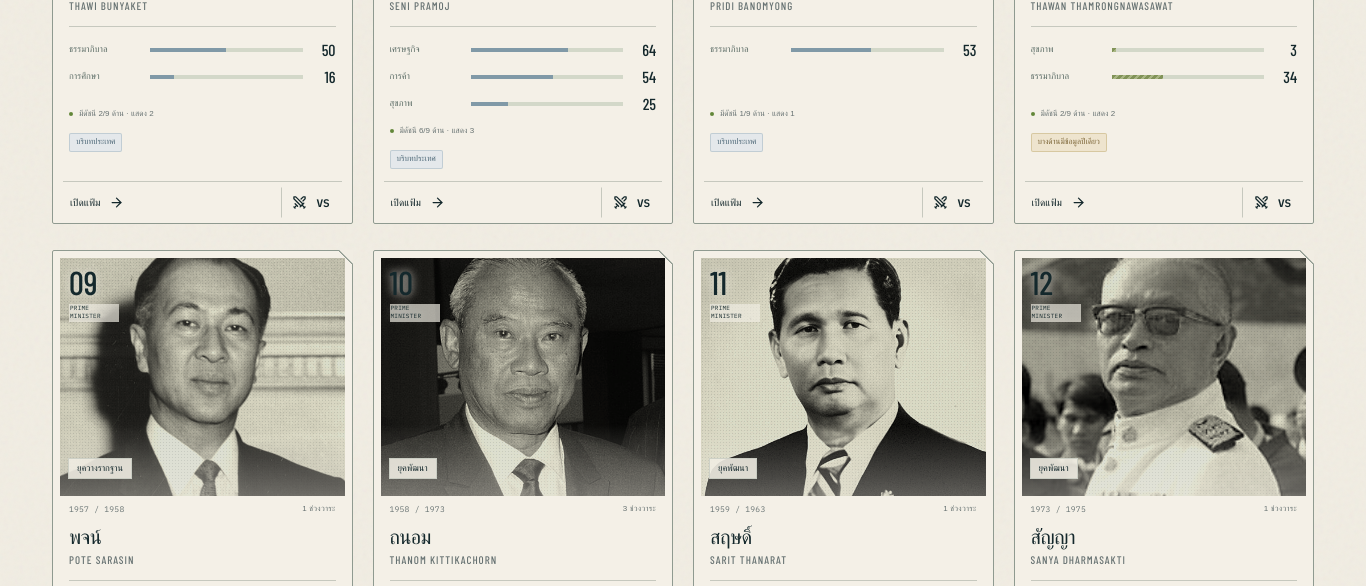
Test: roster to comparison flow › labels annual context for a short tenure and shows which exact sources VS uses
The width and height of the screenshot is (1366, 586).
(page scrolled)
Click the button "VS" below "Thawi Bunyaket": (311, 203) [280, 187, 342, 218]
(page scrolled)
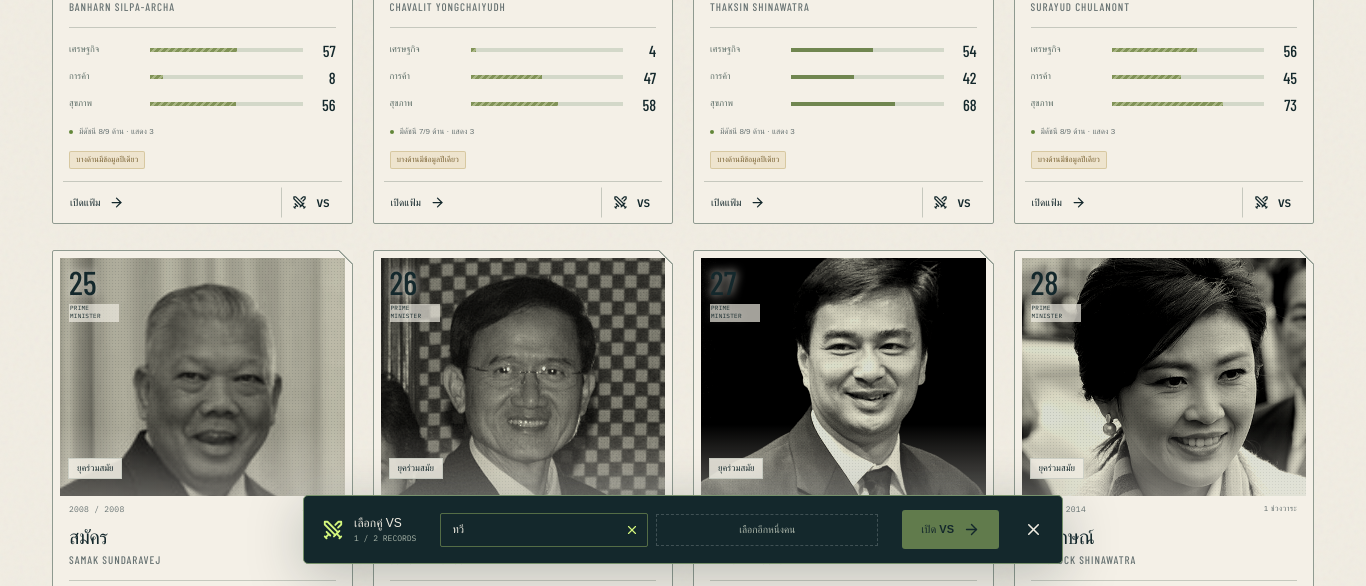
Click the button "VS" below "68": (952, 203) [922, 188, 982, 218]
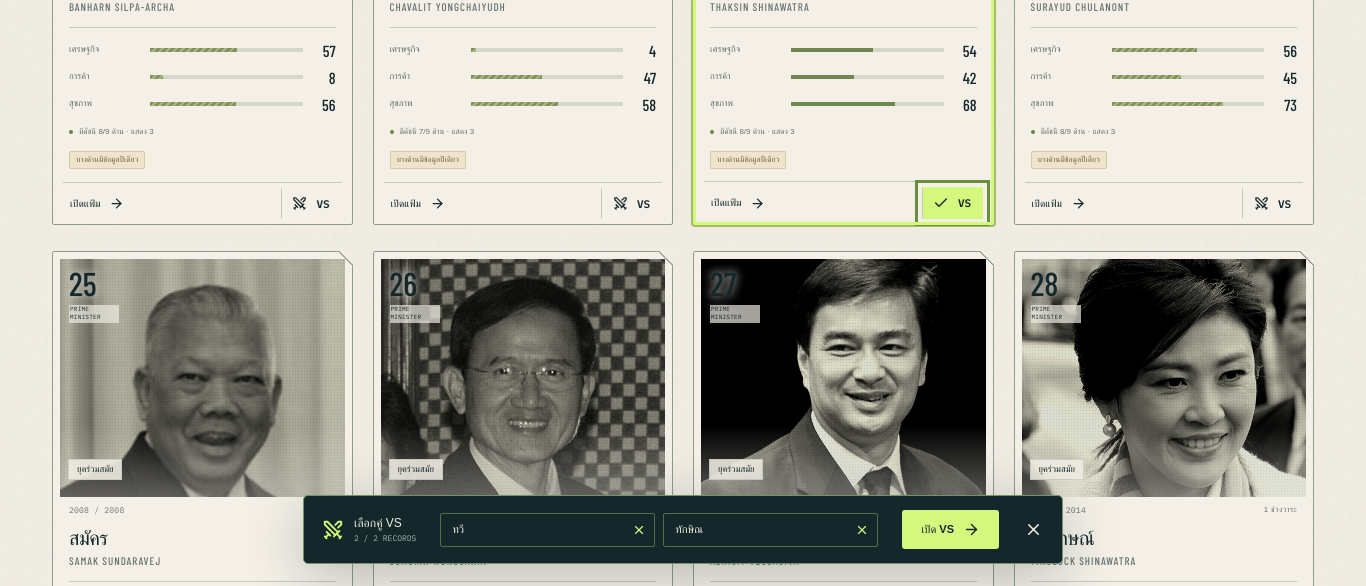
Click the button "เปิด VS": (951, 530) [902, 510, 999, 549]
(page scrolled)
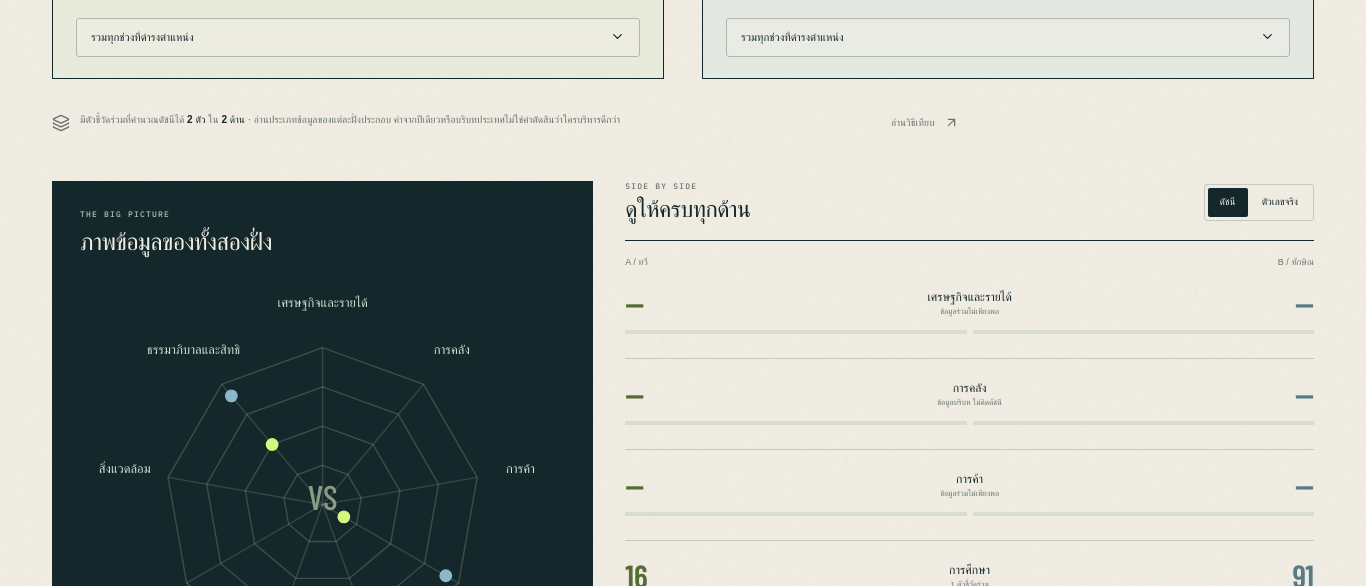
Click the button "ตัวเลขจริง": (1280, 202) [1250, 188, 1310, 217]
(page scrolled)
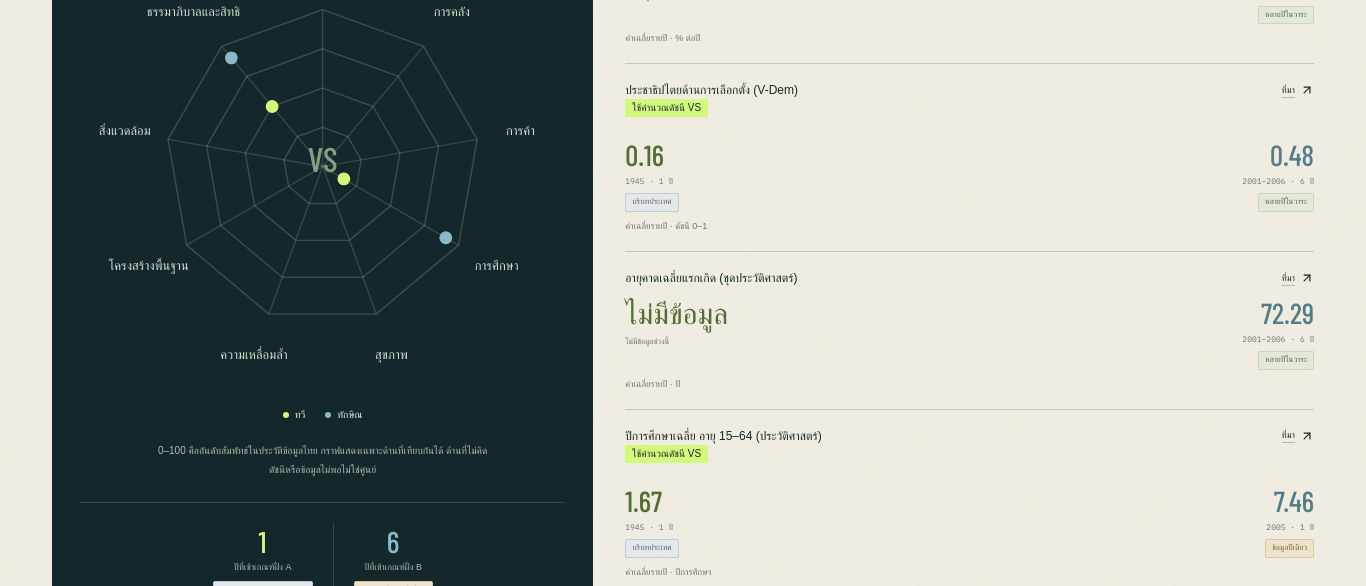
Expected: the text "บริบทประเทศ" below "0.16" is shown, [632, 197, 672, 206]
Expected: the text "ใช้คำนวณดัชนี VS" below "ประชาธิปไตยด้านการเลือกตั้ง (V-Dem)" is shown, [632, 102, 701, 113]
